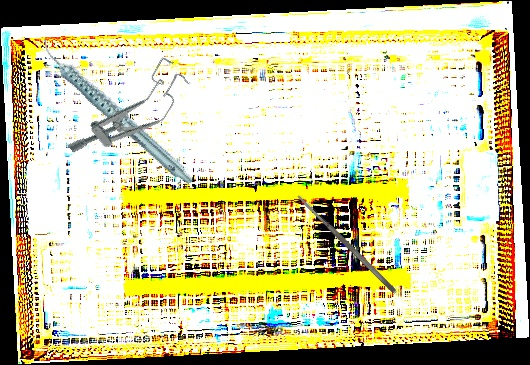Handpiece: (39, 13, 195, 210)
Spatula Surgical: (294, 191, 399, 296)
Speculum: (60, 53, 199, 177)
